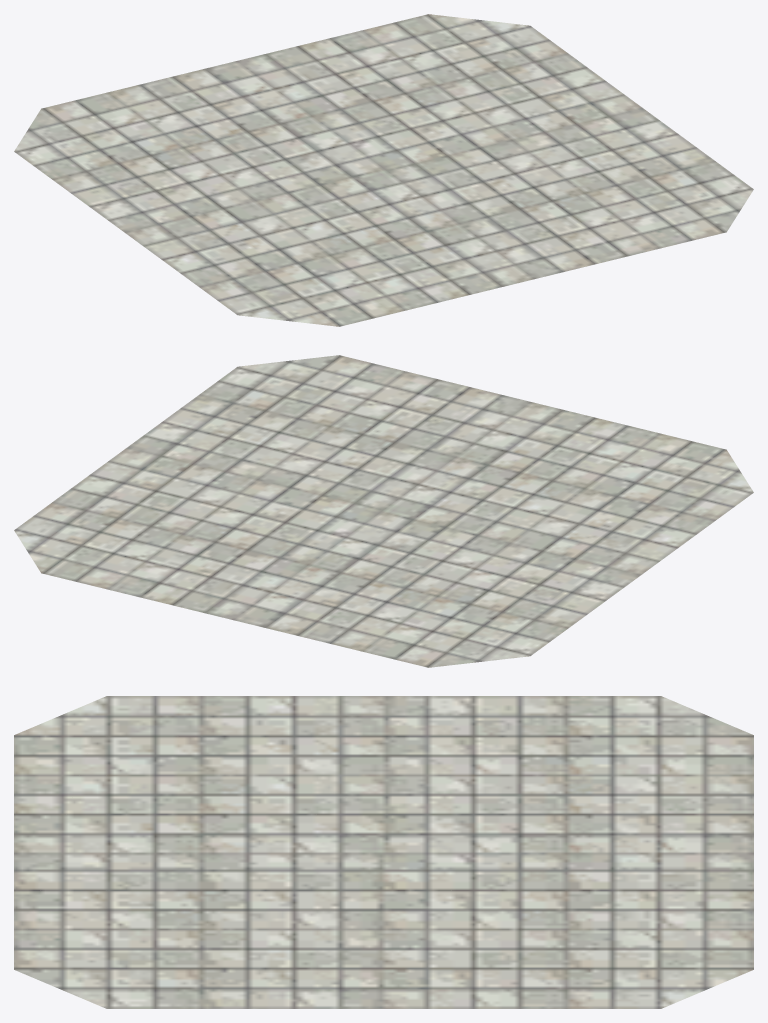
File: Environment - Prop - Tile B 01 - PMTileB01.glb
The picture shows the model from 3 angles, top to bottom: view 1: azimuth 30°, elevation 25°; view 2: azimuth 150°, elevation 25°; view 3: azimuth 270°, elevation 25°; orthographic projection. The views are drawn at different scales.
Parts seen in each view (by area): view 1: PMTILEB01; view 2: PMTILEB01; view 3: PMTILEB01.
Part boxes in pixels (x1,y1,x2,y2): PMTILEB01: [14, 14, 753, 326]; PMTILEB01: [14, 355, 753, 667]; PMTILEB01: [14, 696, 753, 1008].
Bounding box in the file's own units: 80 × 0 × 80.
1 material, 1 textured.
